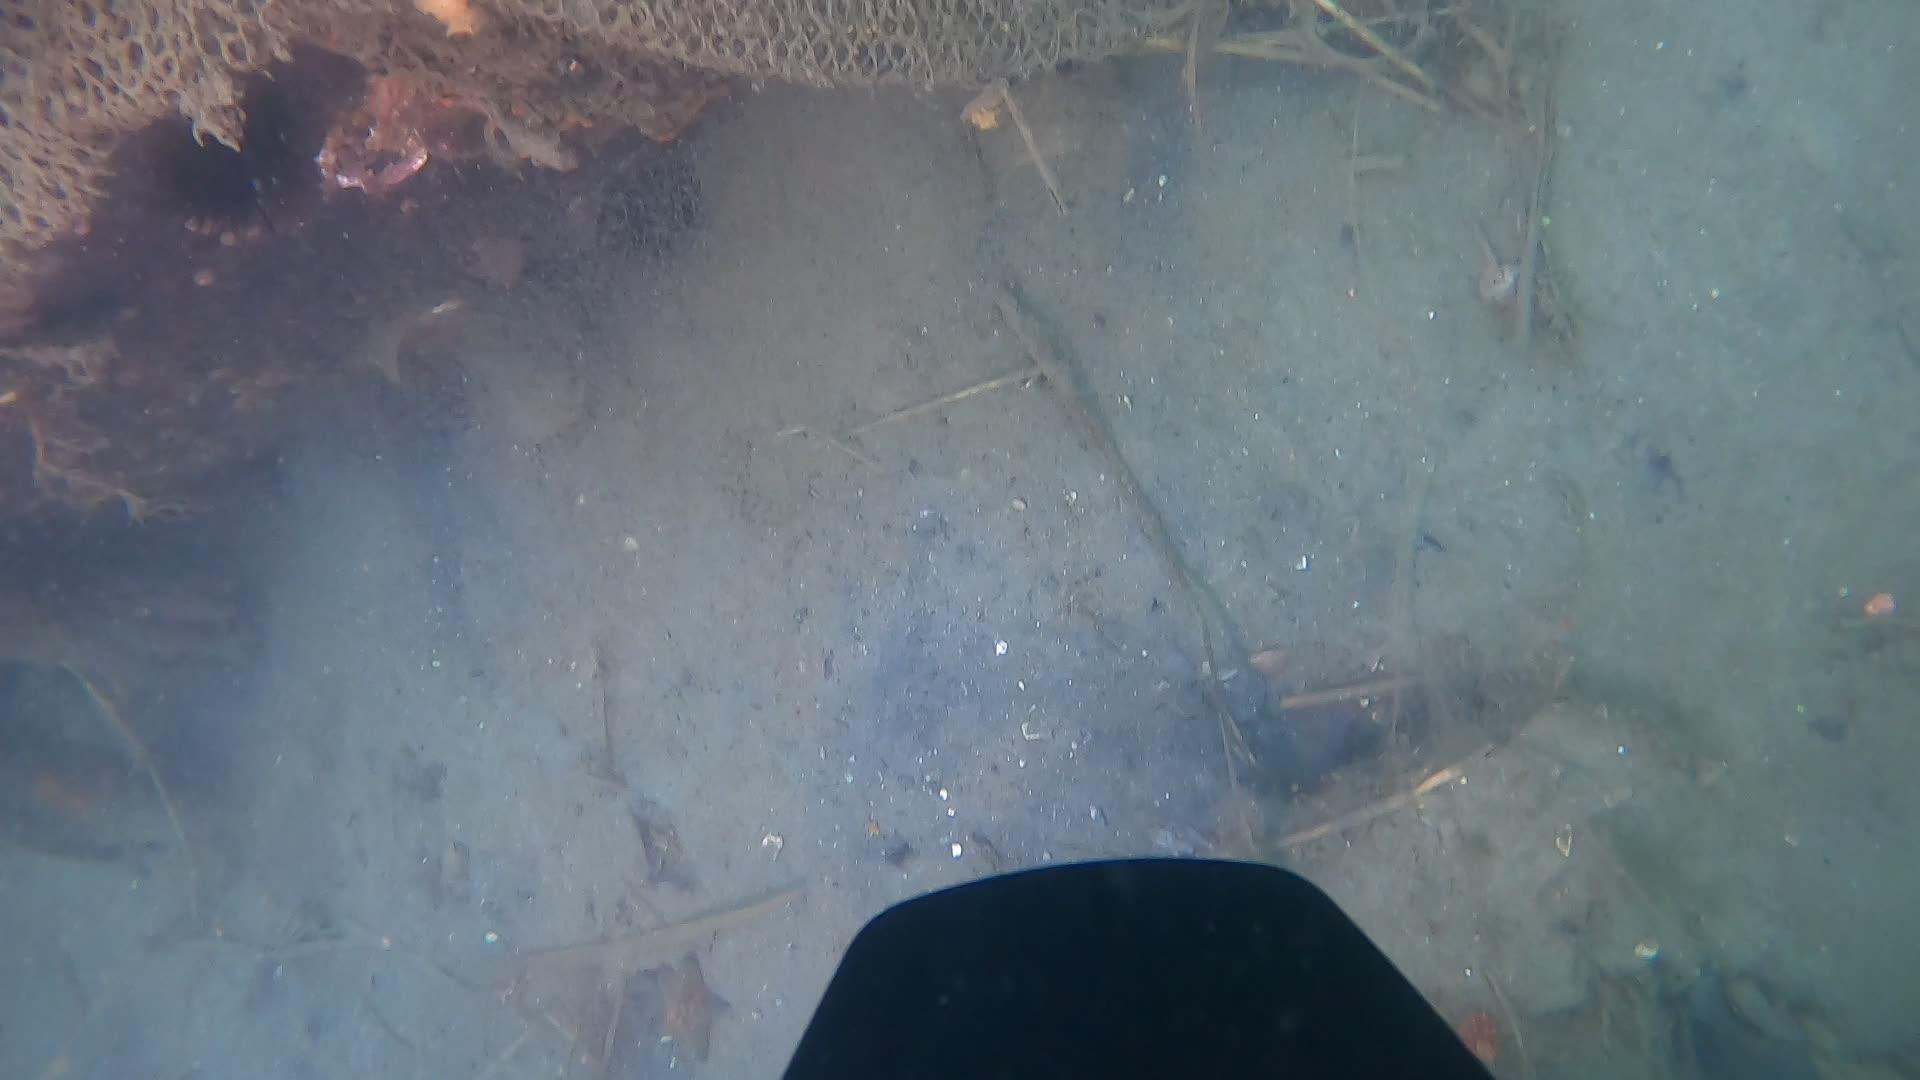fish net: (0, 0, 284, 248)
